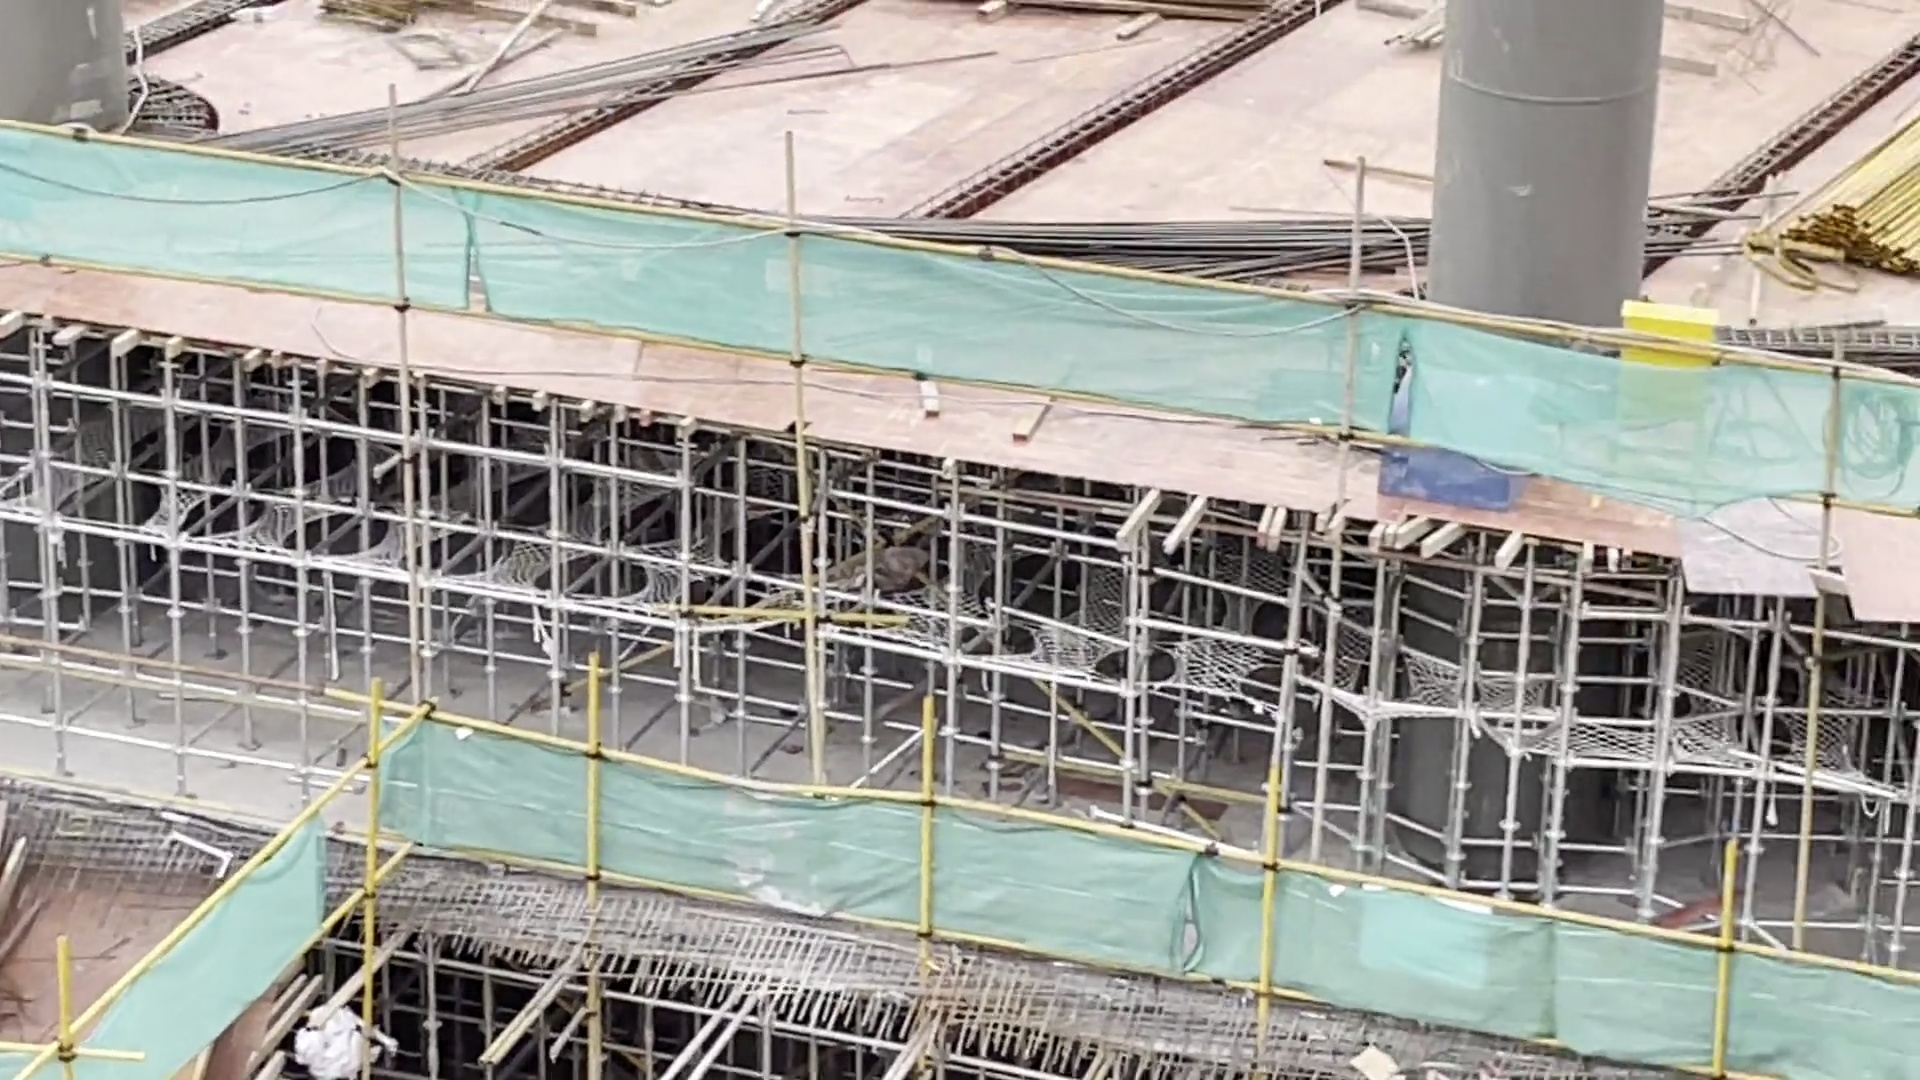ebox: (1617, 297, 1721, 524)
